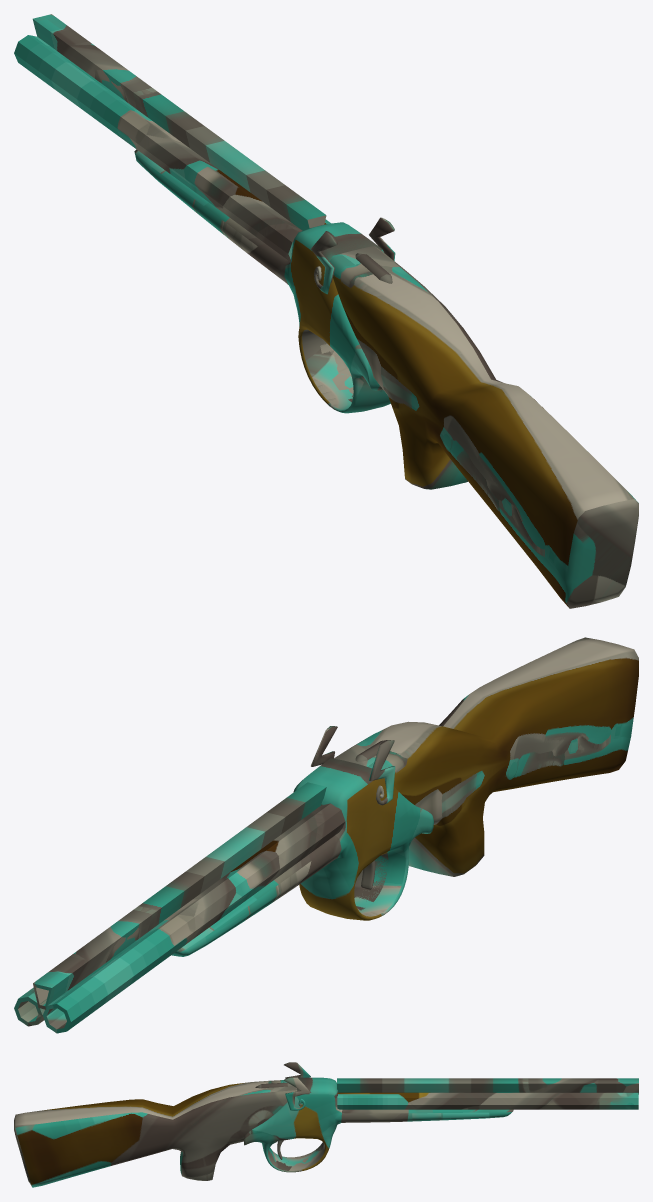
File: shotgun.fbx
The picture shows the model from 3 angles, top to bottom: view 1: azimuth 30°, elevation 25°; view 2: azimuth 150°, elevation 25°; view 3: azimuth 270°, elevation 25°; orthographic projection. The views are drawn at different scales.
Parts seen in each view (by area): view 1: shotgun; view 2: shotgun; view 3: shotgun.
Part boxes in pixels (bbox=[...]): shotgun: bbox=[14, 14, 638, 608]; shotgun: bbox=[14, 637, 638, 1033]; shotgun: bbox=[14, 1062, 638, 1187].
Bounding box in the file's own units: 48.22 × 139 × 704.
